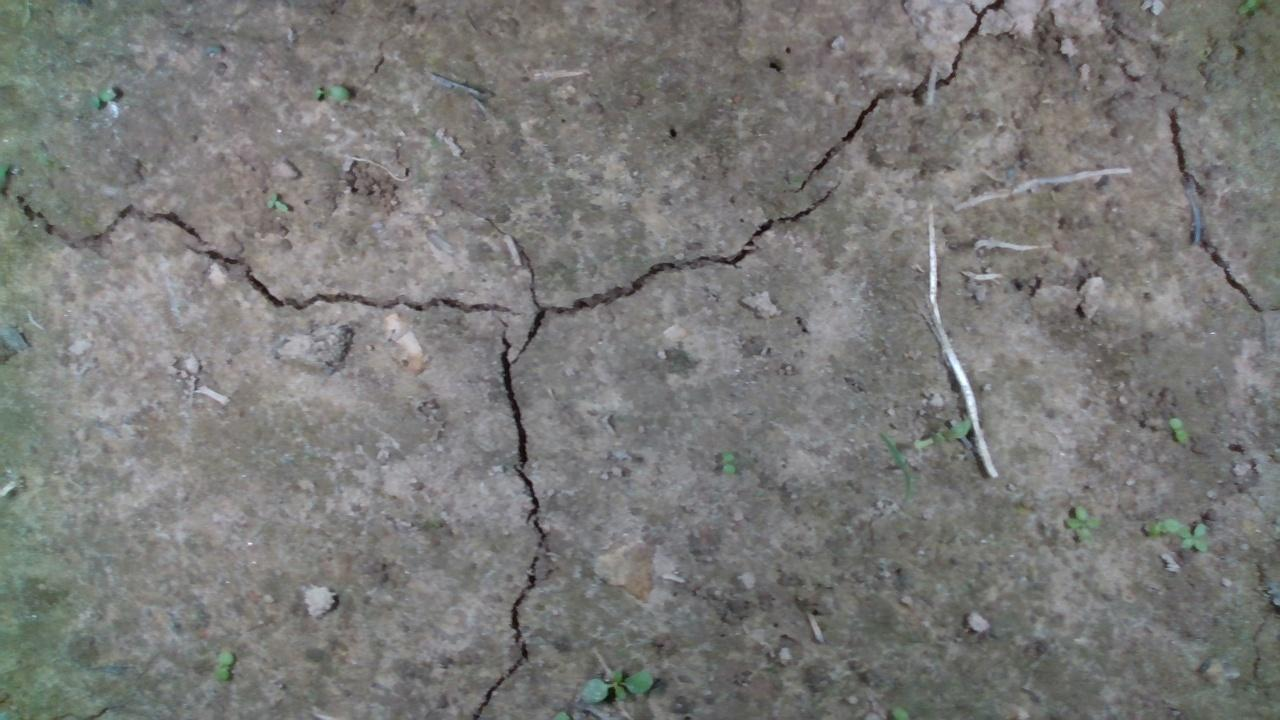weed: (578, 659, 653, 705), (77, 82, 133, 109), (1063, 503, 1099, 541), (711, 449, 738, 477), (214, 649, 237, 680)
